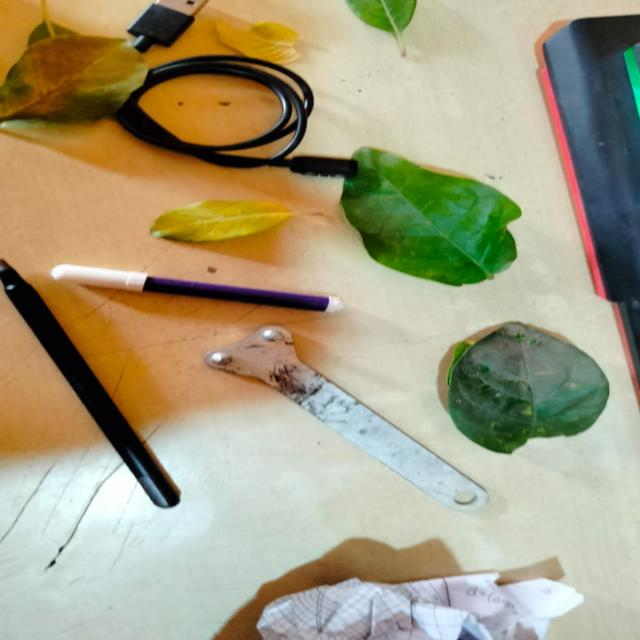Leaves: (343, 148, 520, 288), (438, 322, 610, 458), (448, 323, 607, 456), (0, 35, 146, 124), (342, 0, 450, 63), (146, 200, 293, 246), (214, 16, 307, 69)
Metal: (201, 330, 490, 516)
Paper: (217, 551, 586, 640)
Pen: (0, 258, 182, 510), (50, 265, 345, 316)
